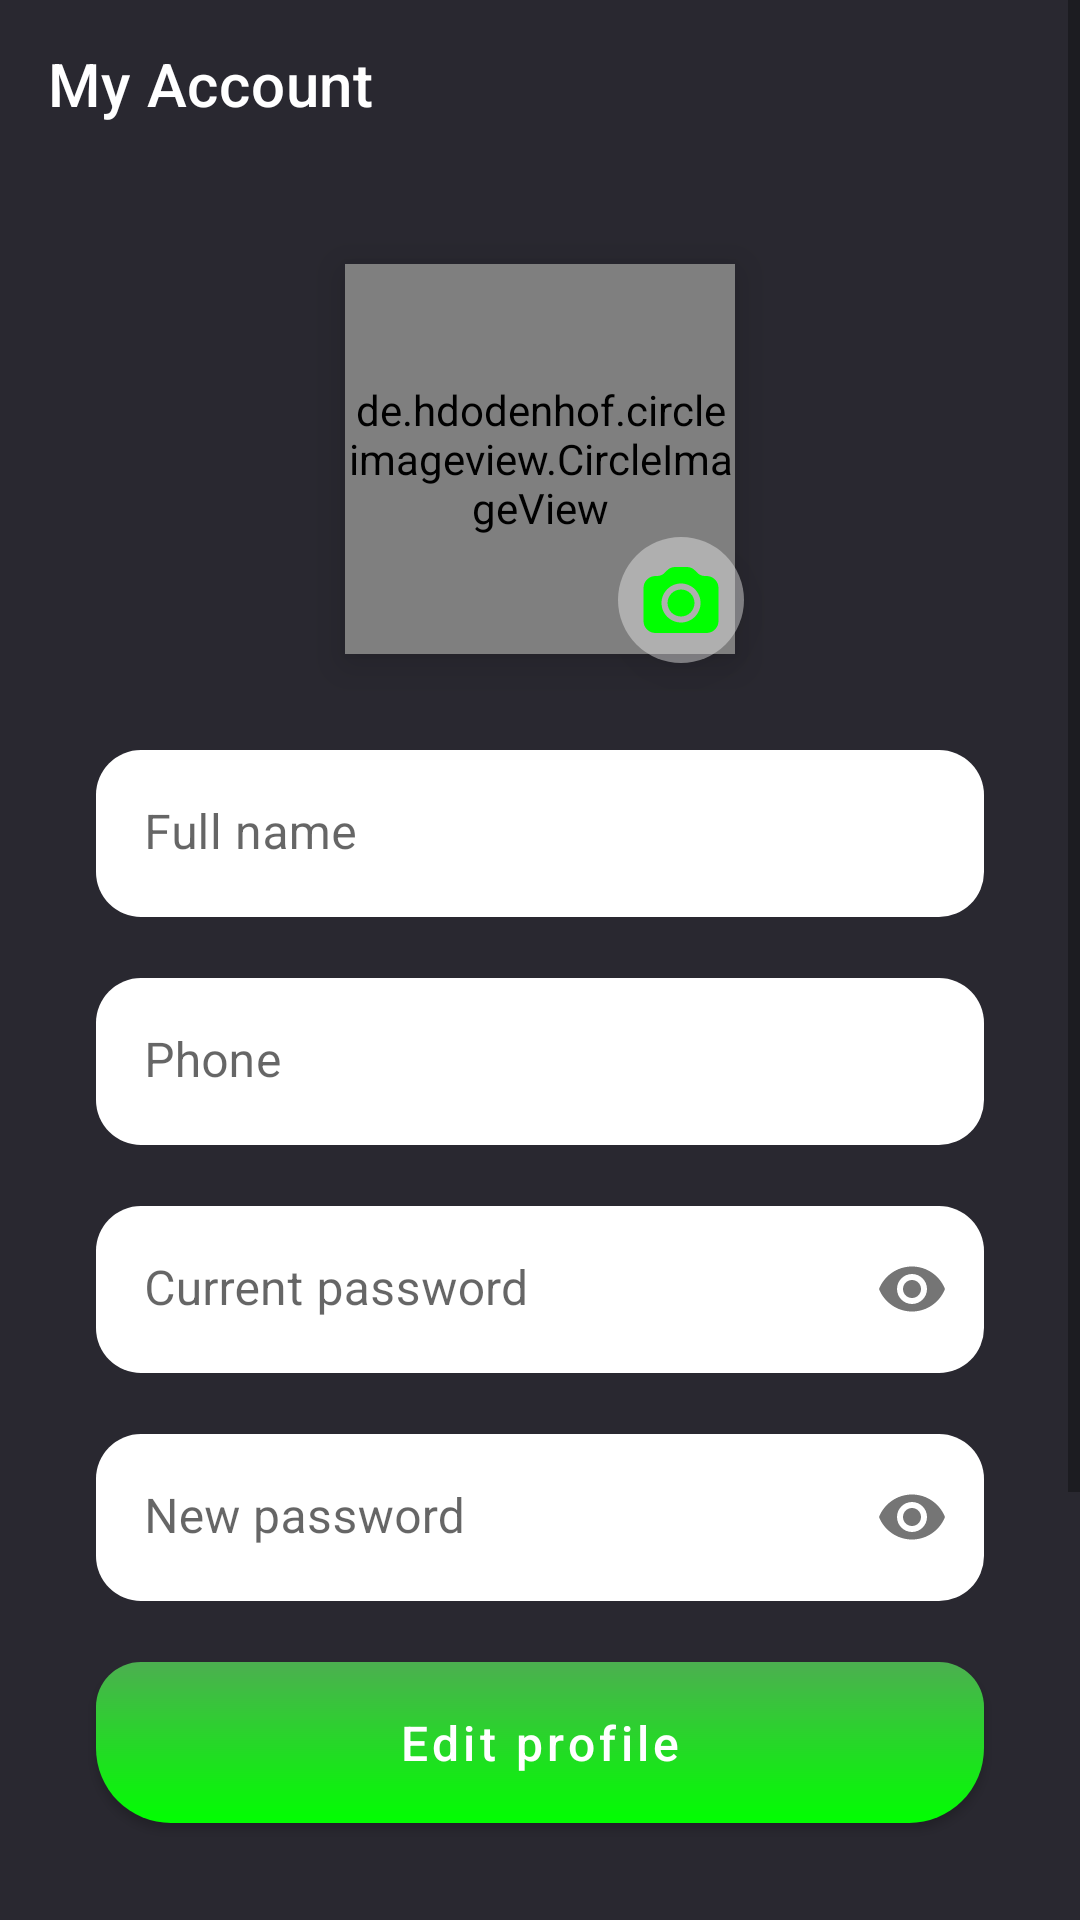

Where to tap for icons on this 1080 x 1920 app screen, as (x,y):
camera: (681,600)
